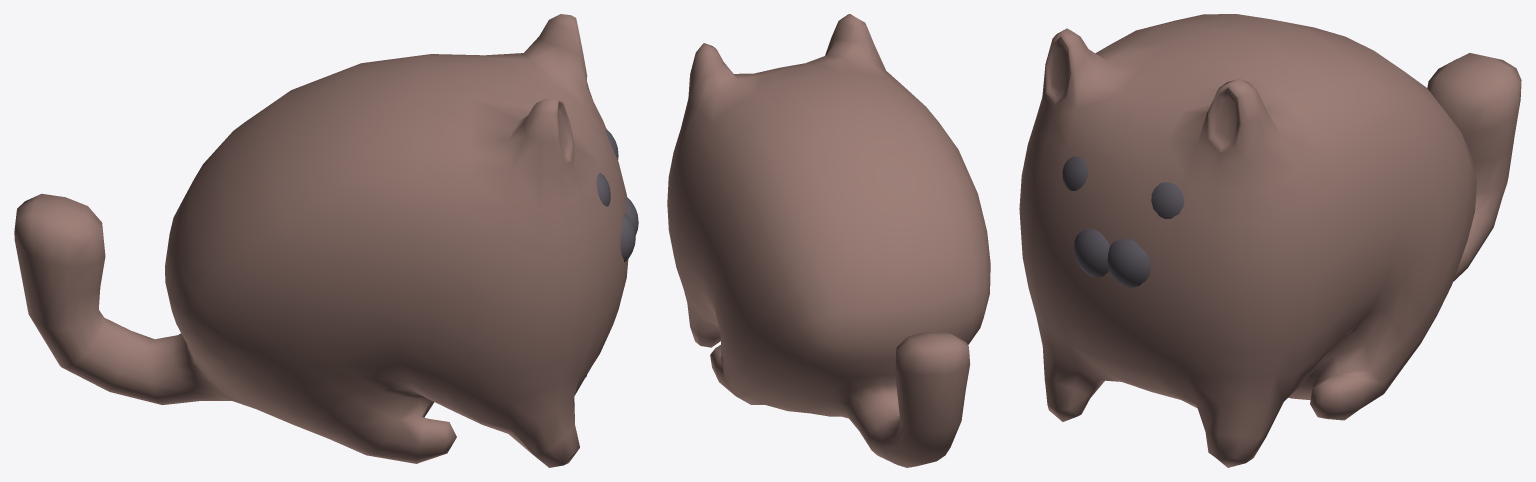
Rendered from portfolio-finished-cat.glb.
3 renders of one model, left to right at view 1: azimuth 30°, elevation 25°; view 2: azimuth 150°, elevation 25°; view 3: azimuth 270°, elevation 25°, orthographic. The views are drawn at different scales.
Visible parts, largest first — view 1: Cat; view 2: Cat; view 3: Cat.
Part boxes in pixels (x1,y1,x2,y2): Cat: (14,14,638,467); Cat: (667,14,990,467); Cat: (1019,14,1521,467).
Size of the model in its own units: 1.01 by 0.792 by 0.9038.
